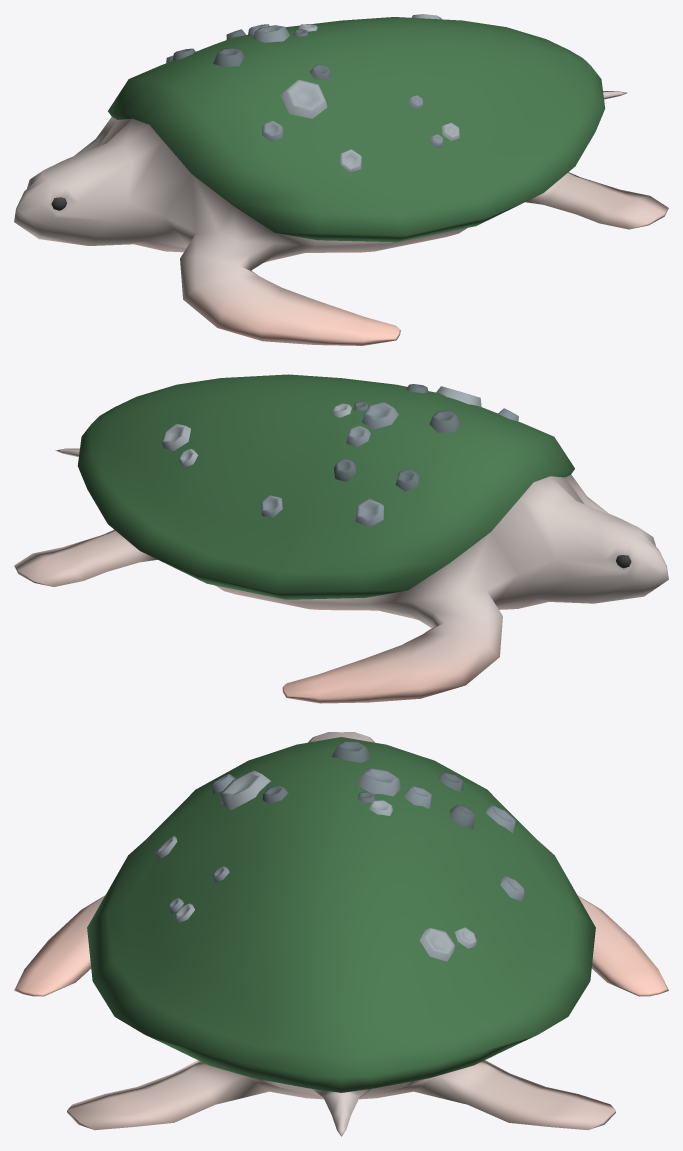
Rendered from Turtle.glb.
3 views of the same model, one above another, from view 1: azimuth 30°, elevation 25°; view 2: azimuth 150°, elevation 25°; view 3: azimuth 270°, elevation 25° (orthographic). The views are drawn at different scales.
Parts seen in each view (by area): view 1: Turtle_002; view 2: Turtle_002; view 3: Turtle_002.
Boxes of the visible parts, x1,y1,x2,y2 form: Turtle_002: [14, 14, 668, 345]; Turtle_002: [14, 374, 668, 703]; Turtle_002: [14, 732, 668, 1136].
Bounding box in the file's own units: 1.26 × 0.3871 × 0.9695.
Materials: 1 (1 with a texture image).
